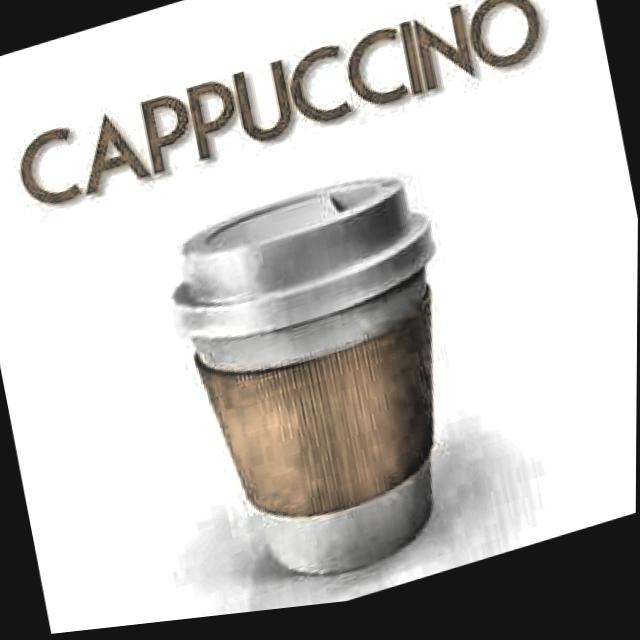Cup: (150, 160, 502, 625)
